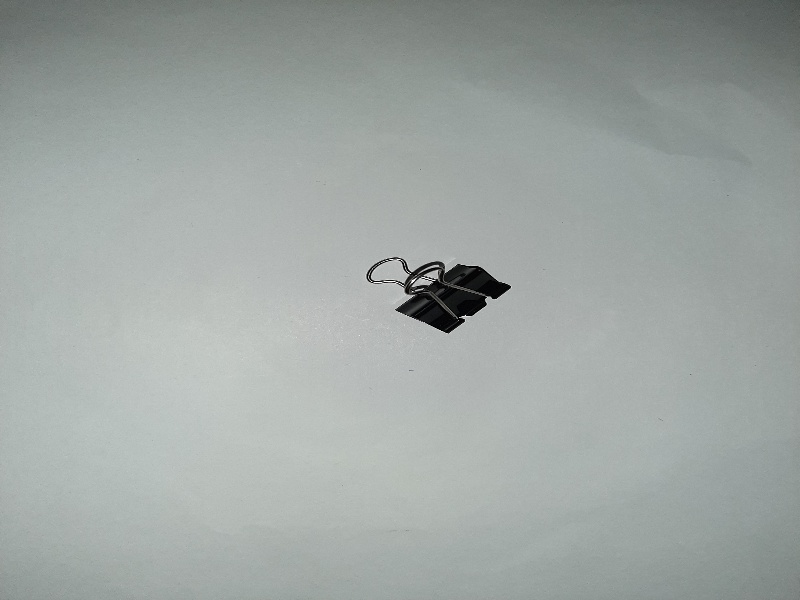Big Paperclip: (361, 242, 516, 344)
